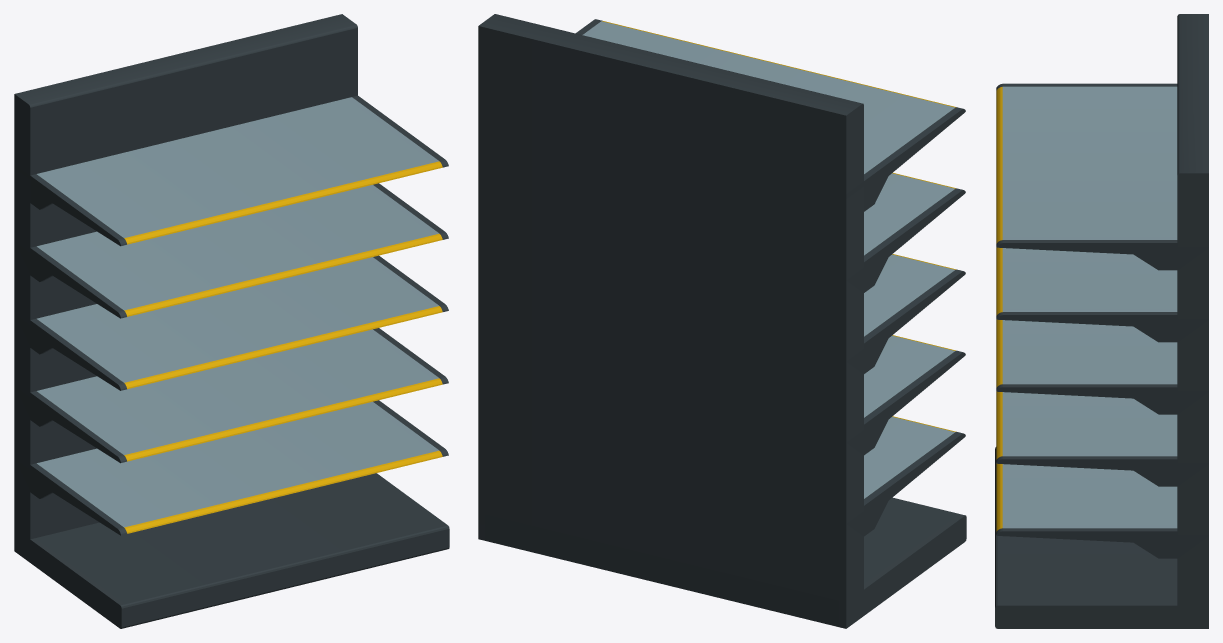
The model's file is Small_Endcap_5row_col.glb.
3 renders of one model, left to right at view 1: azimuth 30°, elevation 25°; view 2: azimuth 150°, elevation 25°; view 3: azimuth 270°, elevation 25°, orthographic. The views are drawn at different scales.
Parts seen in each view (by area): view 1: Small_Endcap_5row_col; view 2: Small_Endcap_5row_col; view 3: Small_Endcap_5row_col.
Part boxes in pixels (x1=…): Small_Endcap_5row_col: x1=14, y1=14, x2=449, y2=628; Small_Endcap_5row_col: x1=478, y1=14, x2=966, y2=628; Small_Endcap_5row_col: x1=995, y1=14, x2=1208, y2=628.
Size of the model in its own units: 1.5 by 2 by 0.85.
1 material, 1 textured.
